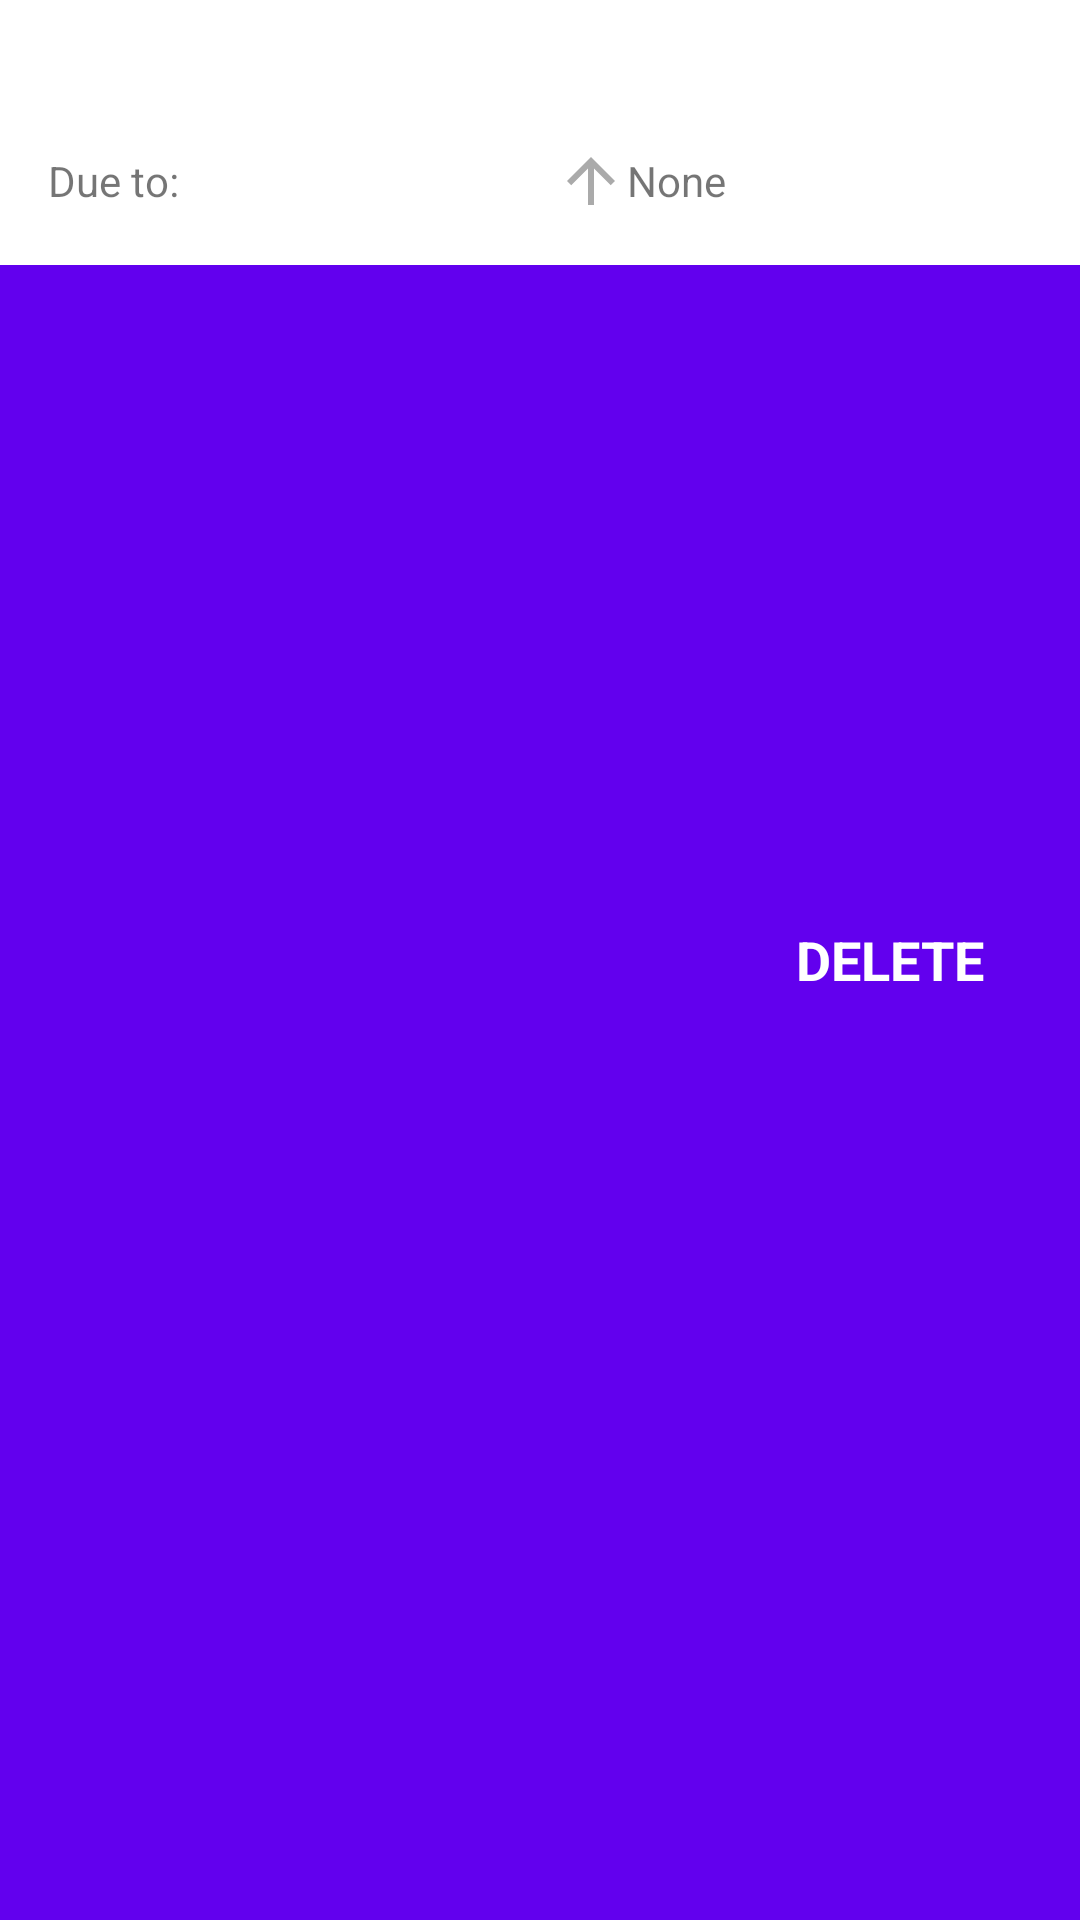

Icons on this 1080×1920 Android screen, each with its box as box(x1, y1, x2, y2):
priority: box(567, 157, 615, 205)
